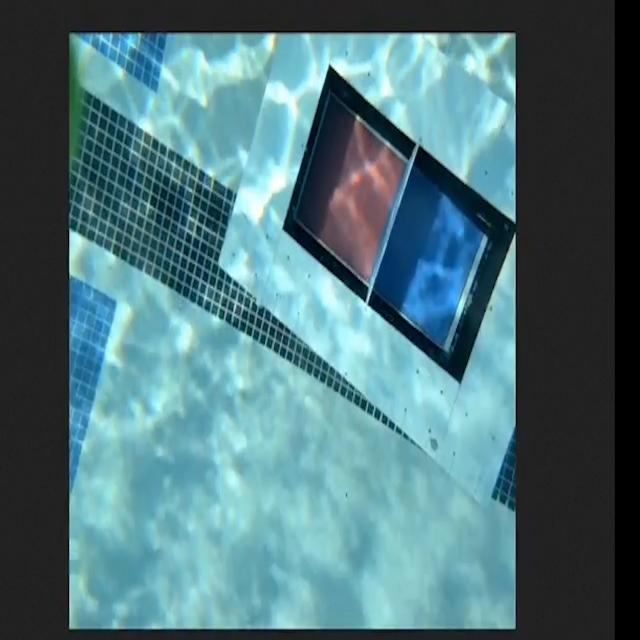Bin: (218, 32, 516, 510)
